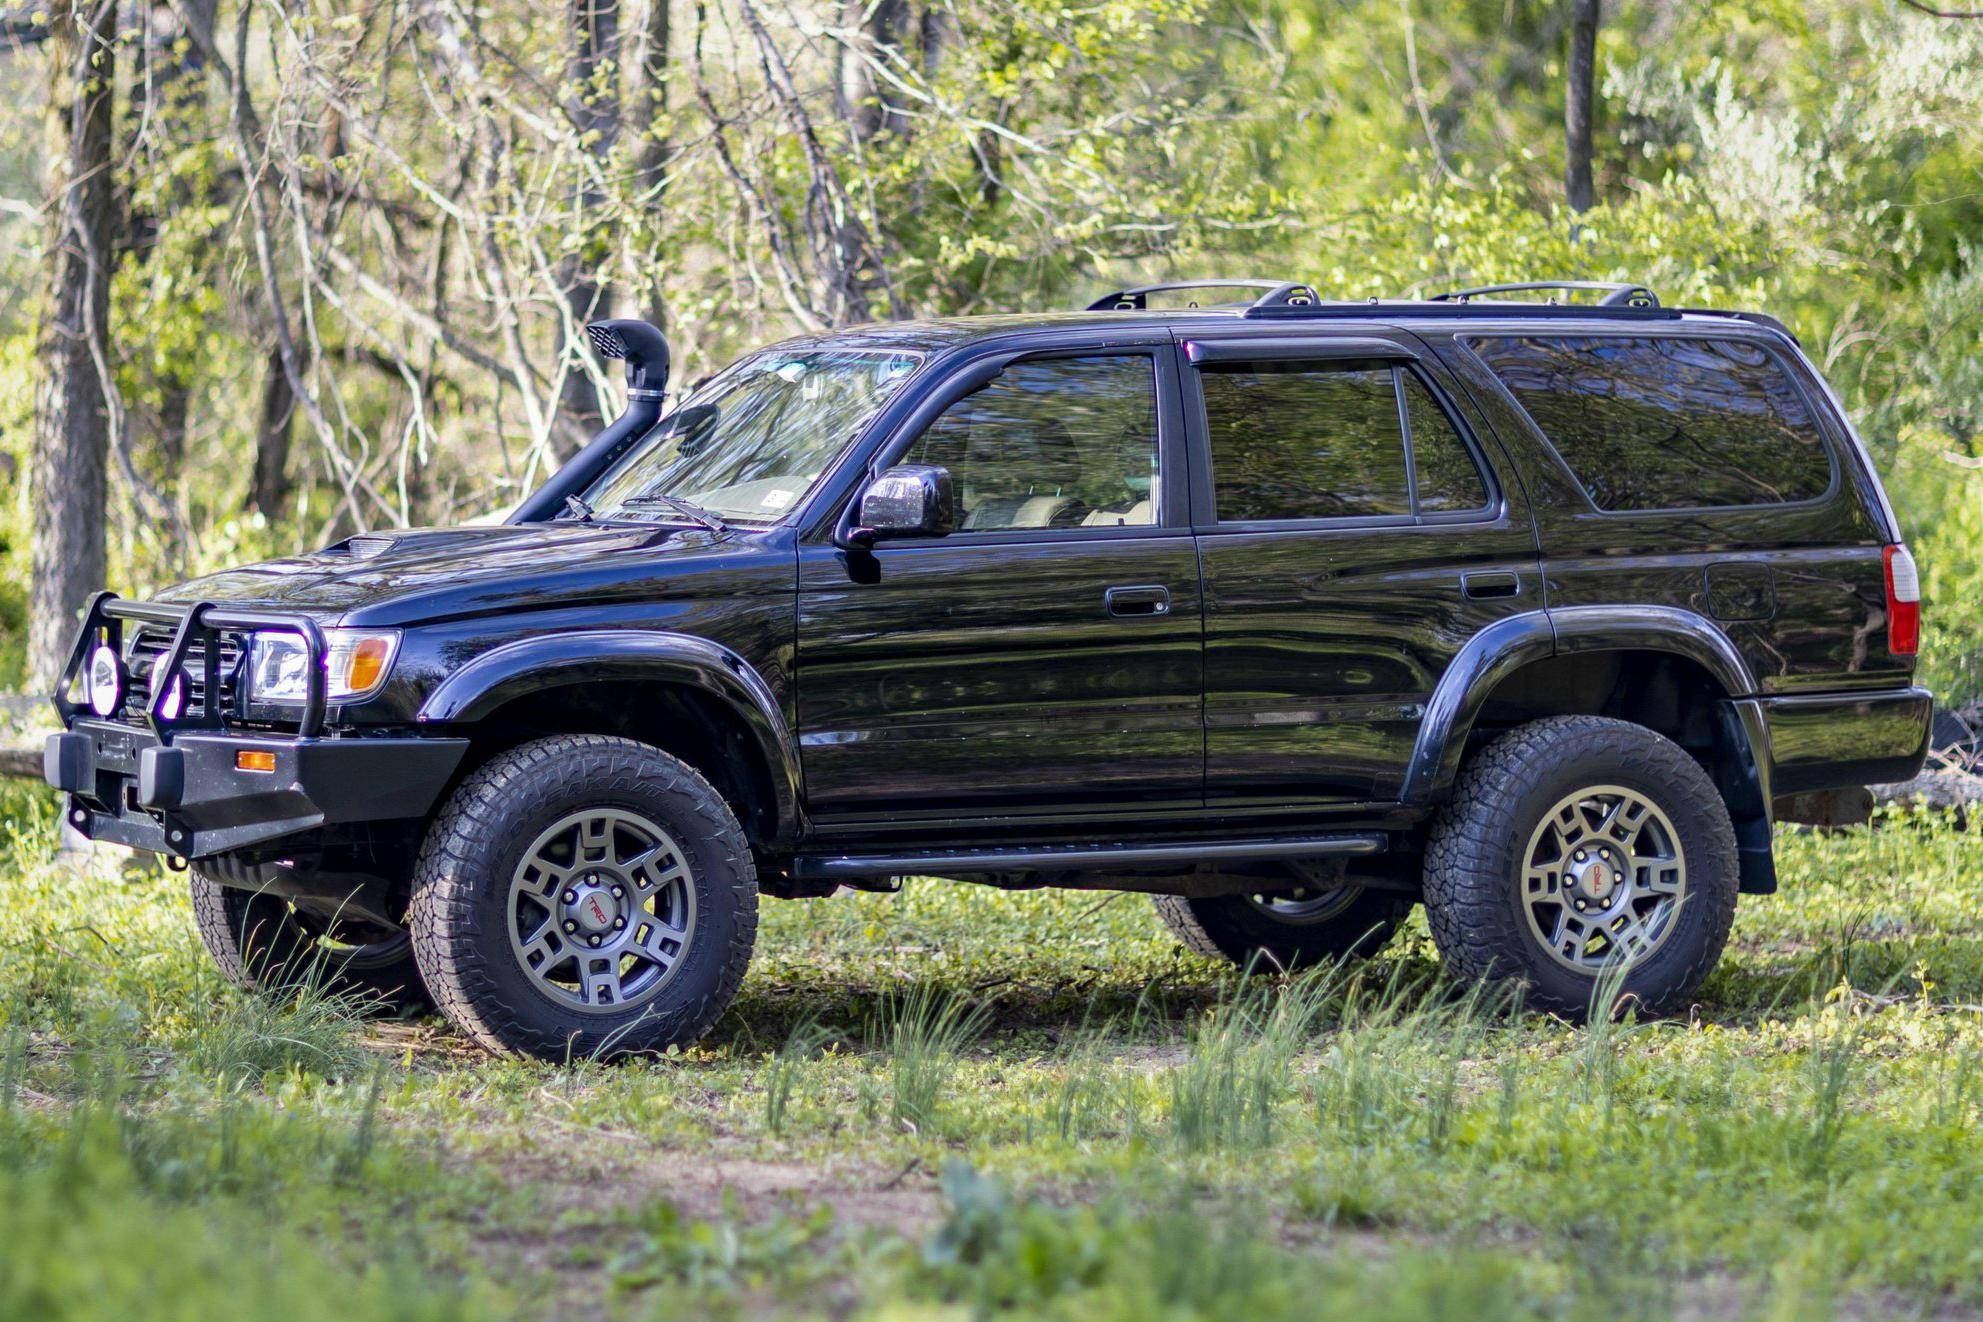car: (40, 297, 1952, 1076)
